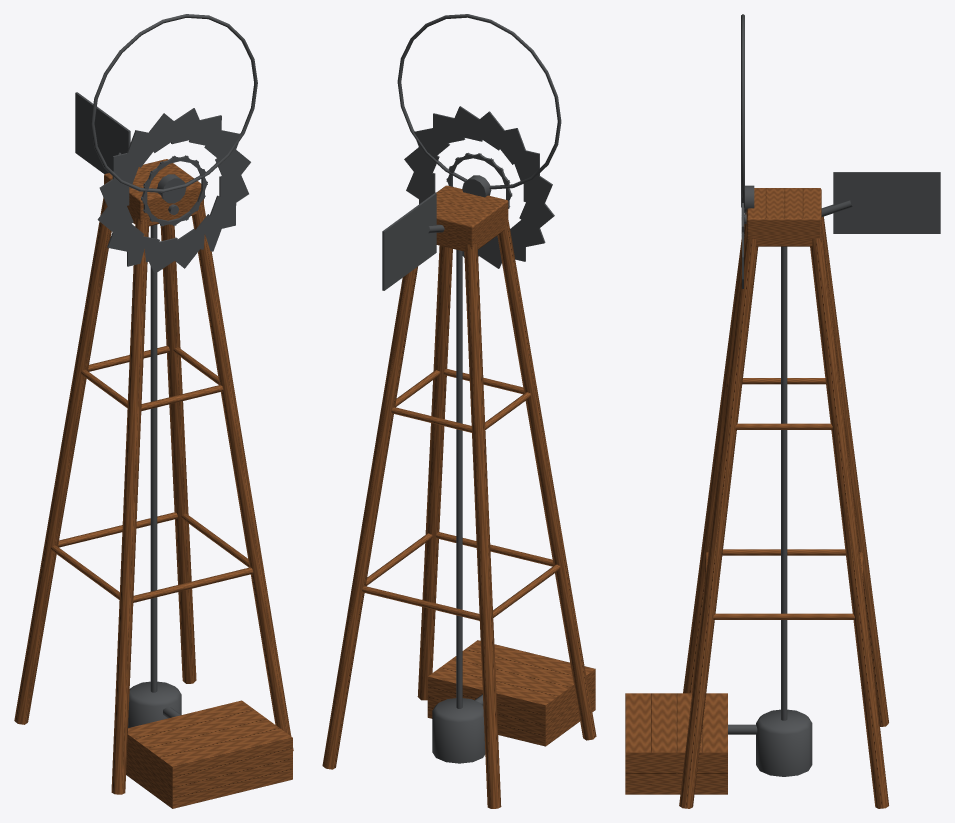
File: windmill.glb
The picture shows the model from 3 angles, left to right: view 1: azimuth 30°, elevation 25°; view 2: azimuth 150°, elevation 25°; view 3: azimuth 270°, elevation 25°; orthographic projection. The views are drawn at different scales.
Visible parts, largest first — view 1: windmill-water-pump, vane; view 2: windmill-water-pump, vane; view 3: windmill-water-pump, vane.
Part boxes in pixels (x1,y1,x2,y2): windmill-water-pump: (14, 92, 293, 808); vane: (91, 14, 257, 273); windmill-water-pump: (322, 185, 596, 808); vane: (397, 14, 561, 268); windmill-water-pump: (625, 172, 940, 808); vane: (741, 14, 754, 288).
Bounding box in the file's own units: 2.23 × 8.76 × 3.37.
Materials: 2 (1 with a texture image).
